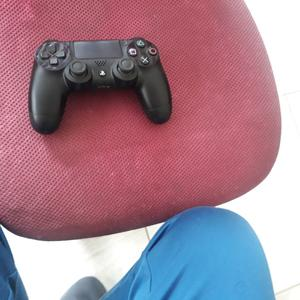controller: (28, 38, 171, 134)
